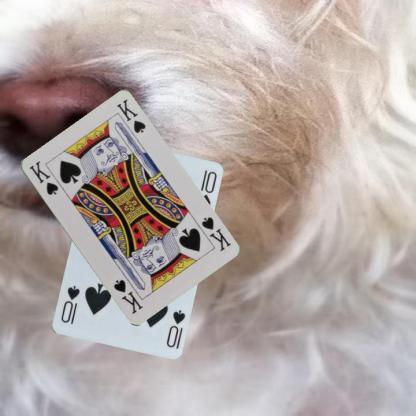10s: (164, 306, 186, 349)
Ks: (26, 158, 60, 196), (198, 214, 232, 252)
